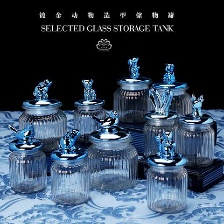bottle: (84, 133, 143, 191), (12, 98, 69, 157), (142, 157, 194, 214), (46, 152, 94, 208), (5, 140, 46, 196), (175, 117, 218, 170), (111, 72, 152, 126), (140, 113, 183, 164), (71, 95, 109, 144), (150, 80, 195, 120)
